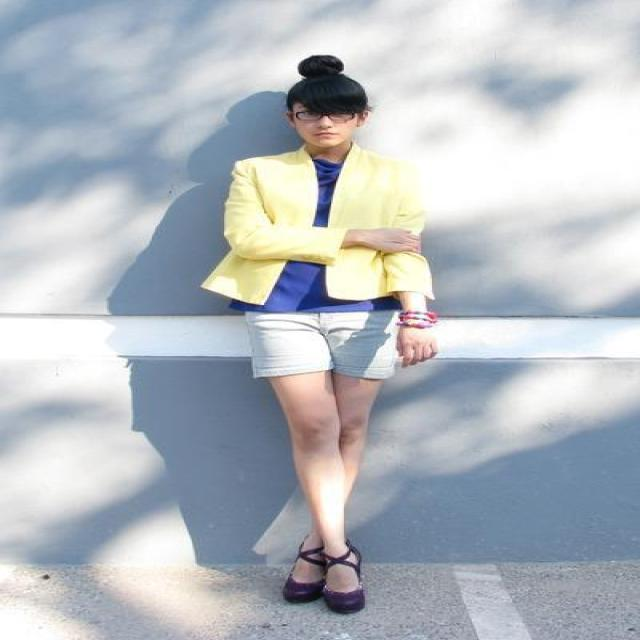jacket: (212, 147, 430, 304)
shirt: (197, 166, 421, 320)
shoe: (282, 550, 363, 614)
shorts: (218, 300, 406, 378)
